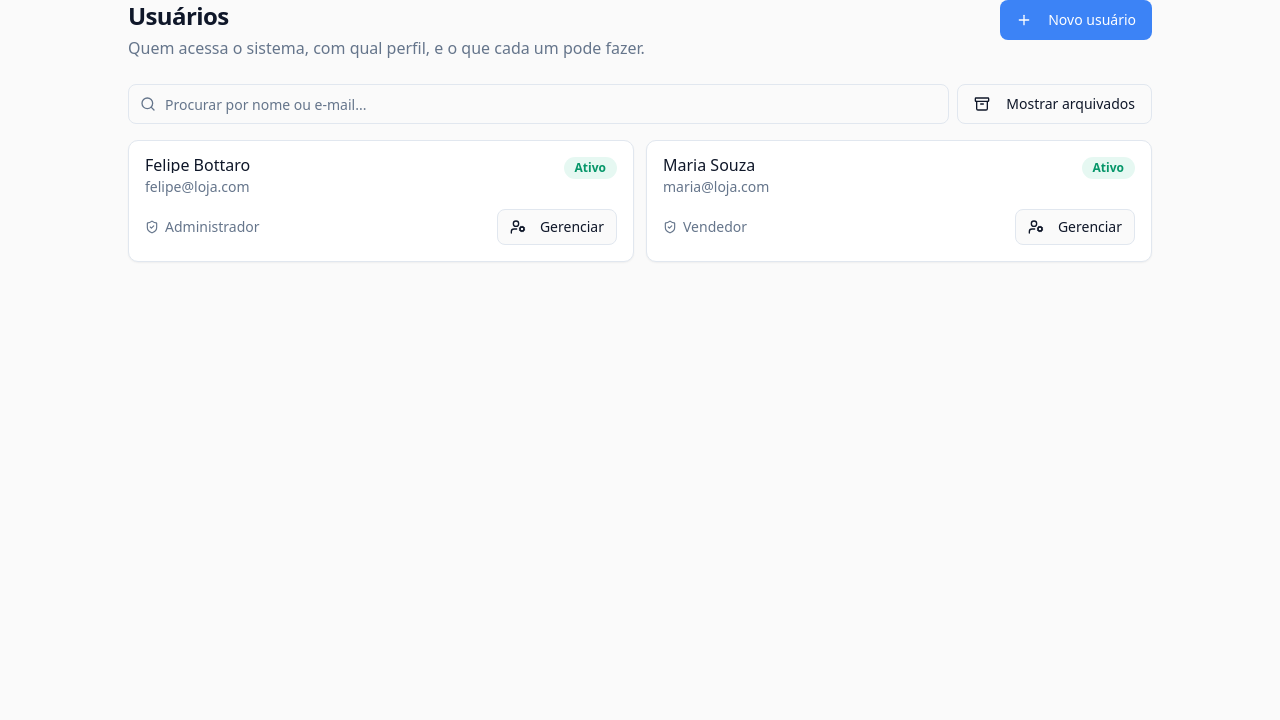
Tela de Usuários por perfil › trava o seletor de Perfil de quem não pode trocar perfil
Click the button "Gerenciar" in the row of "Administrador" at (557, 227), box top-left (497, 209), bottom-right (617, 245)
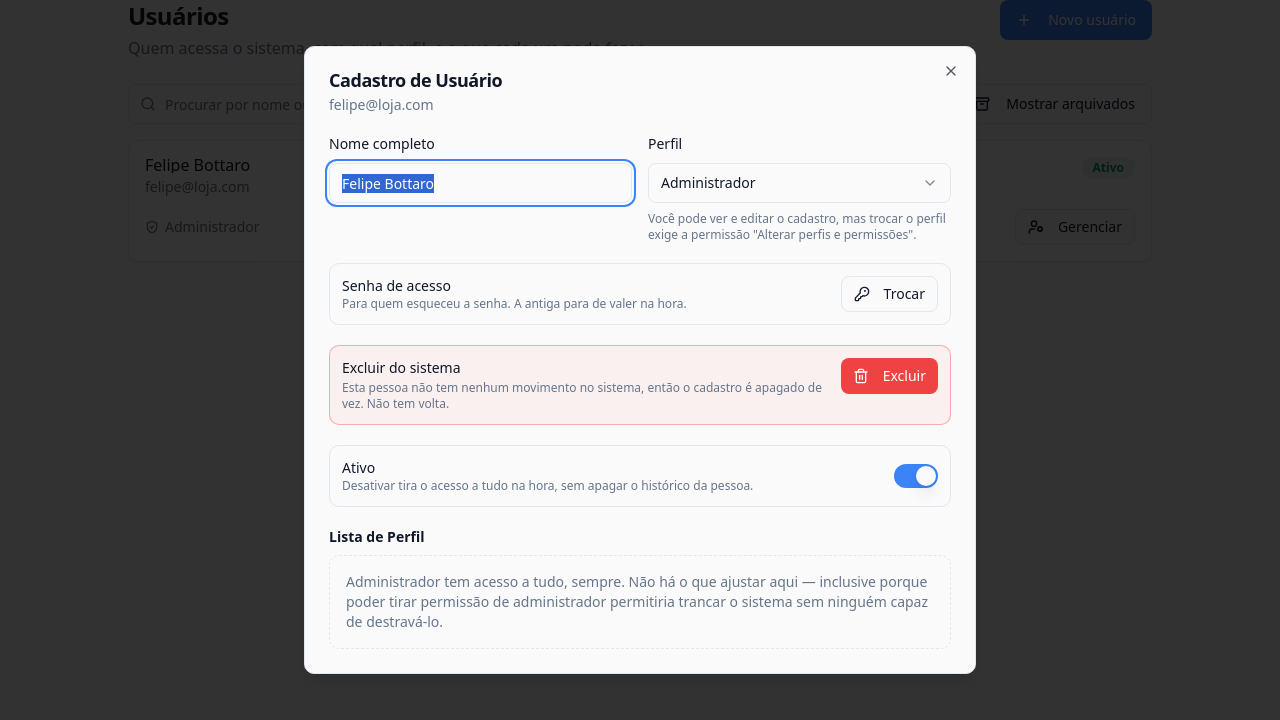
Expected: the text "alterar perfis e permissões" is shown, top-left (648, 210), bottom-right (946, 243)
Expected: the dropdown is disabled, top-left (648, 163), bottom-right (951, 203)
